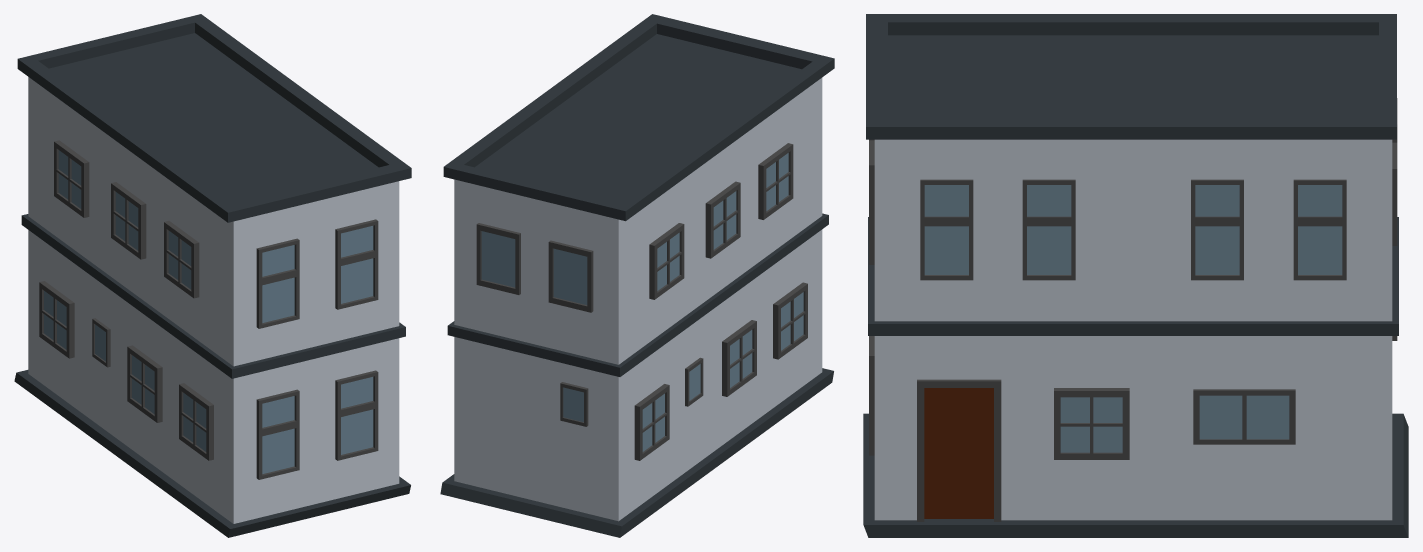
Rendered from 2x1 white.fbx.
3 views of the same model, side by side, from view 1: azimuth 30°, elevation 25°; view 2: azimuth 150°, elevation 25°; view 3: azimuth 270°, elevation 25° (orthographic). The views are drawn at different scales.
Parts seen in each view (by area): view 1: 2x1 white; view 2: 2x1 white; view 3: 2x1 white.
Boxes of the visible parts, bbox=[...] form: 2x1 white: bbox=[14, 14, 411, 537]; 2x1 white: bbox=[440, 14, 834, 537]; 2x1 white: bbox=[863, 14, 1408, 537].
Bounding box in the file's own units: 3.74 × 6.35 × 7.62.
